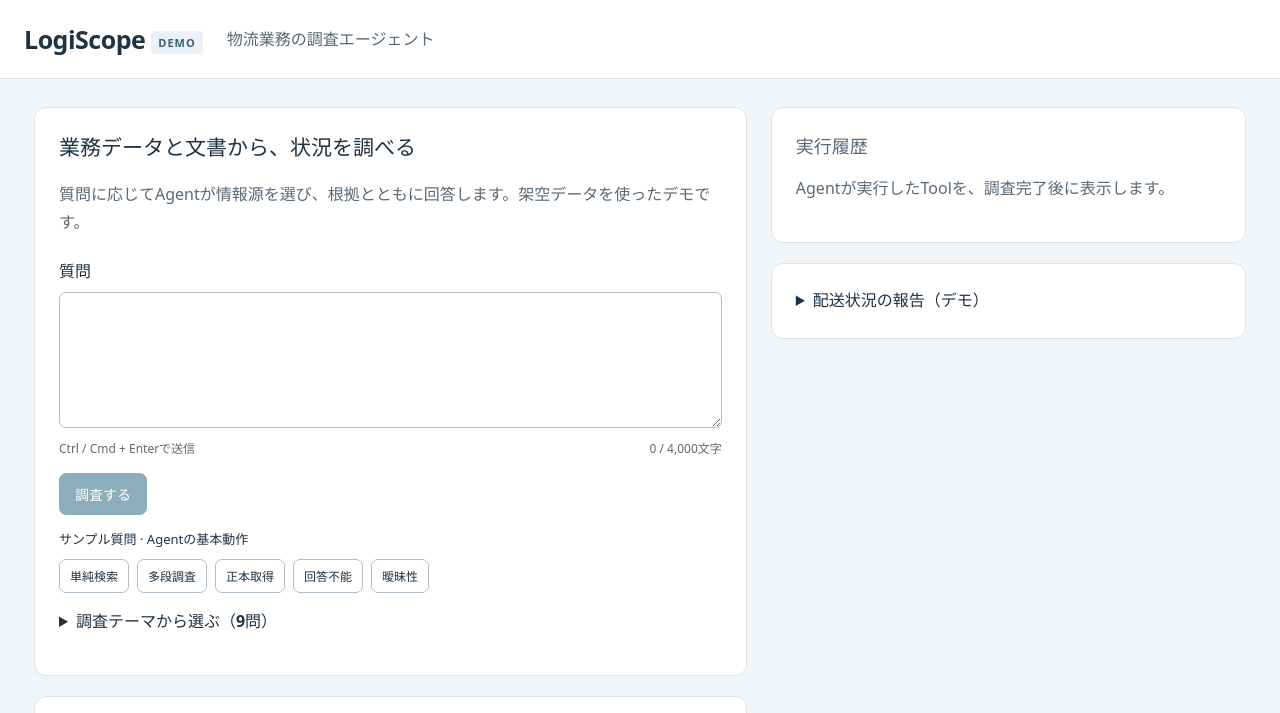
report submission blocks investigation and the report link selects the update shipment
Type "遅延原因は？" into the text box labelled "質問".
click(390, 360); type("遅延原因は？")  # box 59,292 -> 722,428
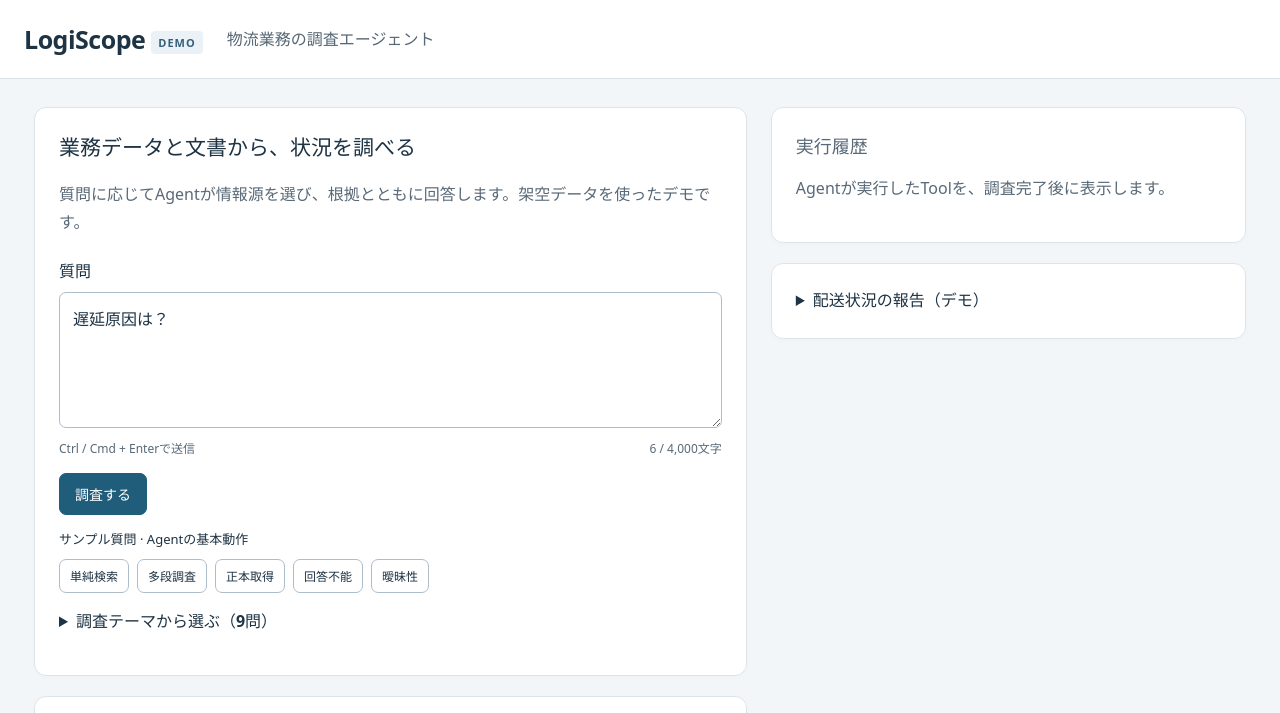
Click the heading "配送状況の報告（デモ）".
click(901, 300)  # box 813,289 -> 989,311
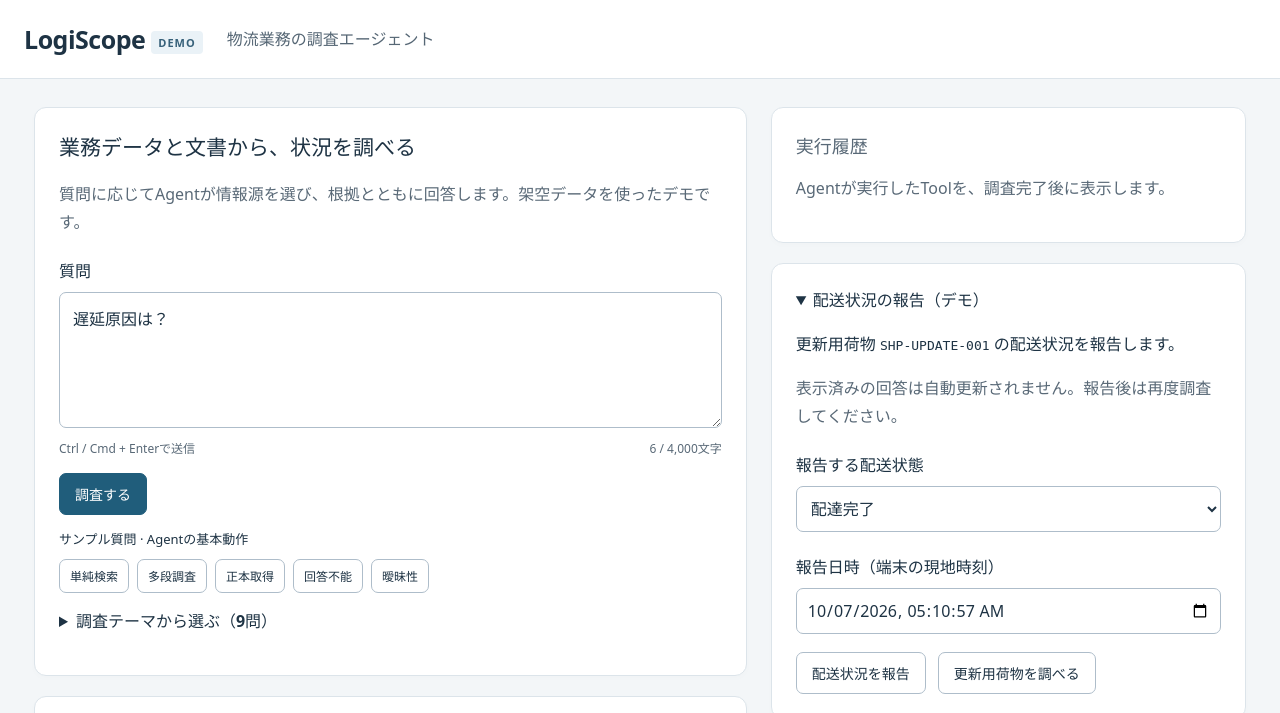
Submit the form "配送状況を報告", box 796,452 -> 1221,694
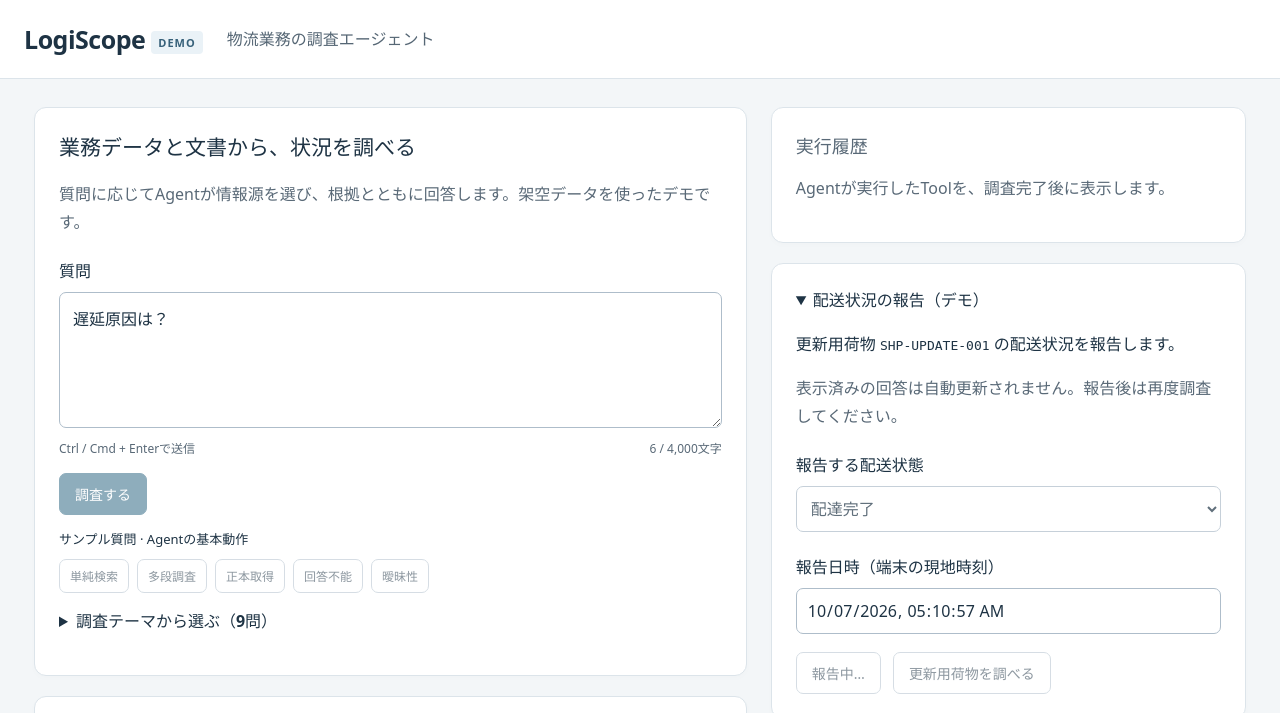
expect the button "調査する" is disabled: met, box 59,473 -> 147,515
Submit the form "調査する", box 59,258 -> 722,515
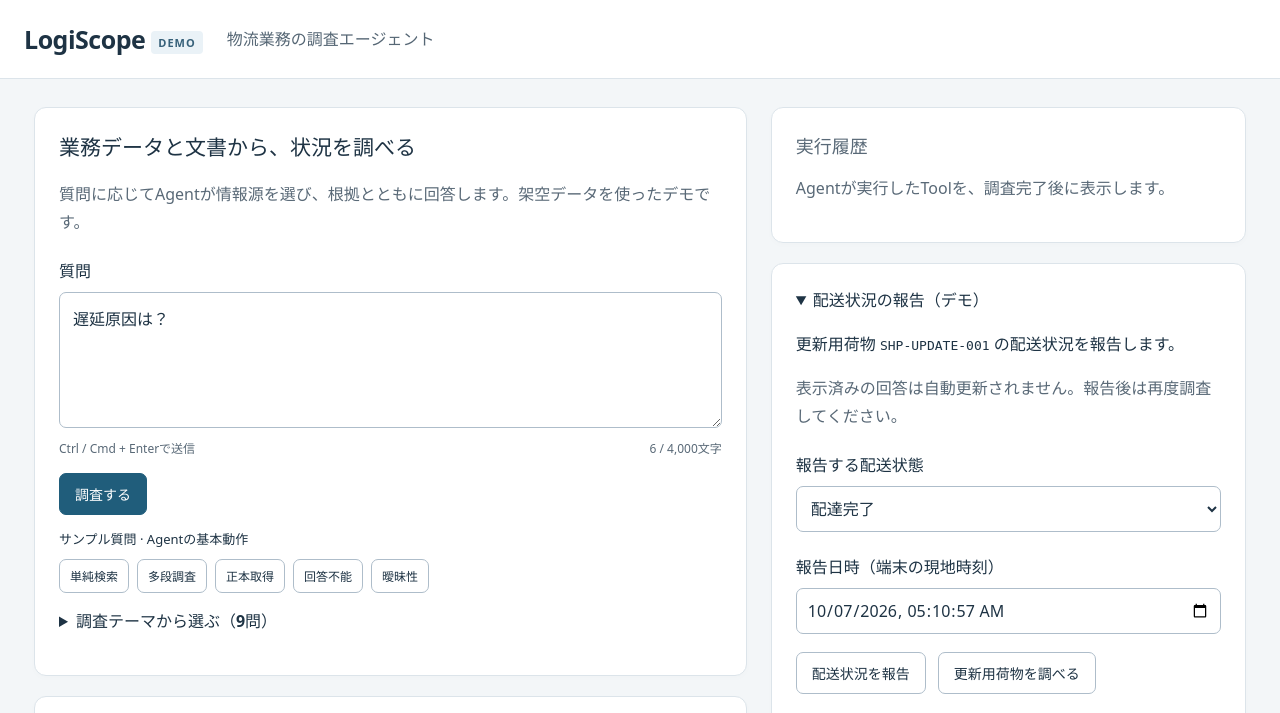
Click the button "更新用荷物を調べる".
click(1017, 673)  # box 938,652 -> 1096,694
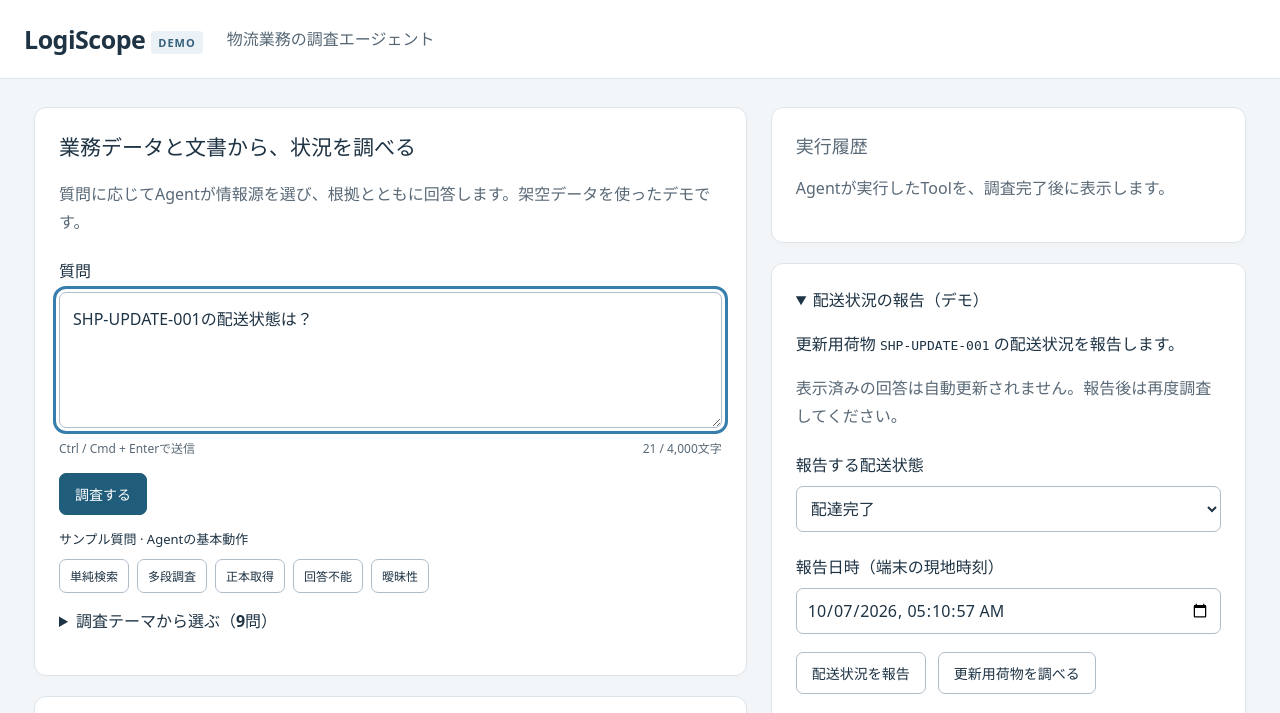
expect the button "調査する" is enabled: met, box 59,473 -> 147,515
expect the text box labelled "質問" holds "SHP-UPDATE-001の配送状態は？": met, box 59,292 -> 722,428
